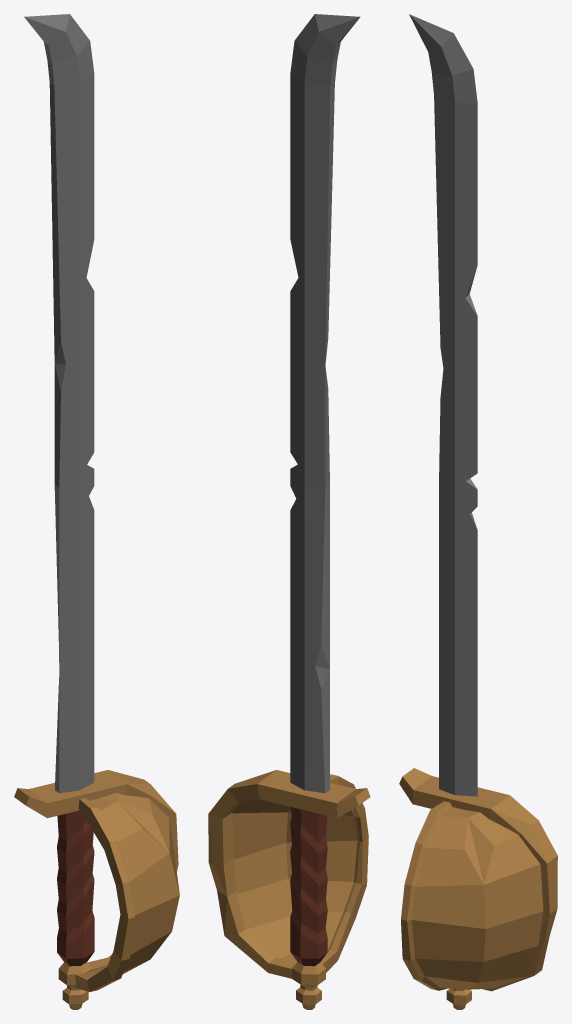
File: SM_Wep_Sabre_02.glb
The picture shows the model from 3 angles, left to right: view 1: azimuth 30°, elevation 25°; view 2: azimuth 150°, elevation 25°; view 3: azimuth 330°, elevation 25°; orthographic projection. The views are drawn at different scales.
Parts seen in each view (by area): view 1: SM_Wep_Sabre_02; view 2: SM_Wep_Sabre_02; view 3: SM_Wep_Sabre_02.
Part boxes in pixels (<box>): SM_Wep_Sabre_02: <box>14,14,179,1009</box>; SM_Wep_Sabre_02: <box>208,14,370,1009</box>; SM_Wep_Sabre_02: <box>399,14,557,1009</box>.
Bounding box in the file's own units: 0.00193 × 0.0121 × 0.00144.
